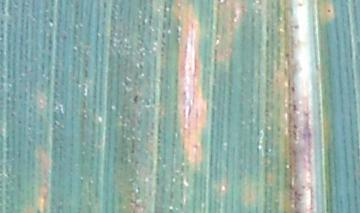tarspot: (289, 84, 296, 95), (283, 50, 291, 59), (132, 94, 139, 104), (325, 6, 333, 14), (47, 17, 55, 25), (292, 23, 299, 32), (296, 2, 303, 10), (292, 103, 298, 112), (215, 1, 222, 4)
